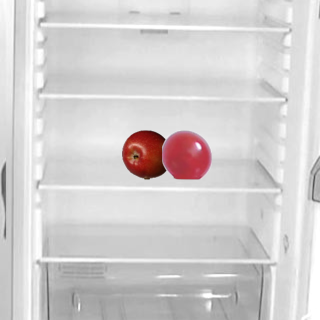Apple Braeburn: (121, 129, 171, 179)
Redcurrant: (161, 129, 211, 179)
